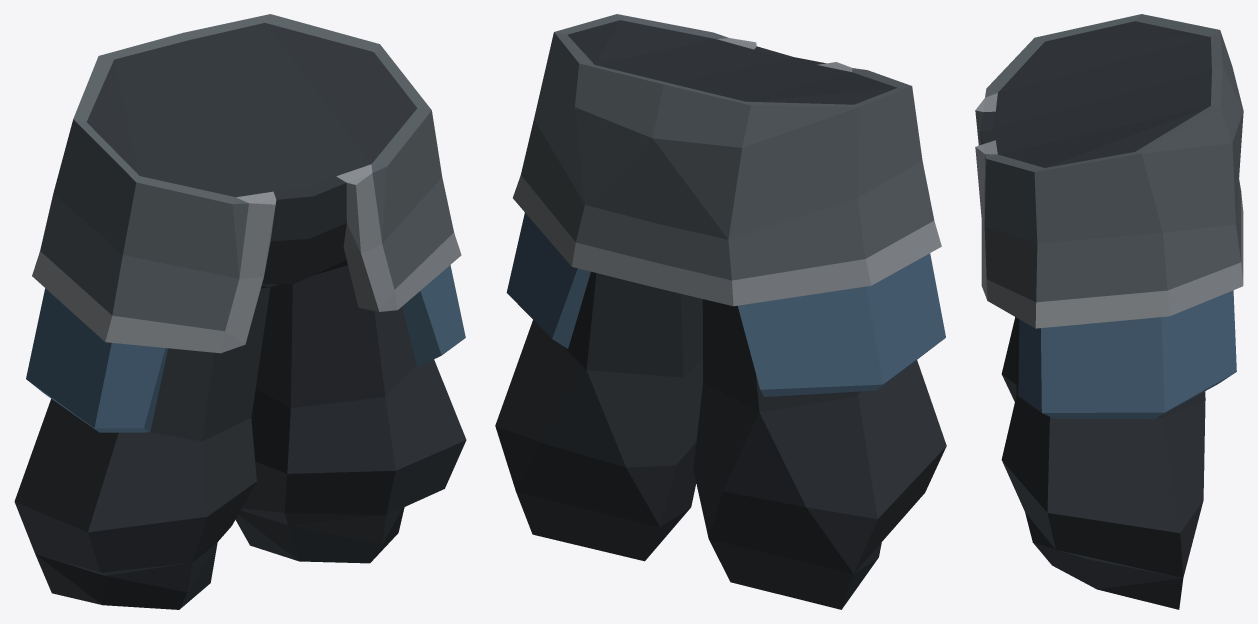
File: Chr_Hips_Male_11_Static.fbx
3 renders of one model, left to right at view 1: azimuth 30°, elevation 25°; view 2: azimuth 150°, elevation 25°; view 3: azimuth 270°, elevation 25°, orthographic. The views are drawn at different scales.
Parts seen in each view (by area): view 1: Chr_Hips_Male_11_Static; view 2: Chr_Hips_Male_11_Static; view 3: Chr_Hips_Male_11_Static.
Boxes of the visible parts, left/top/right/bottom form: Chr_Hips_Male_11_Static: left=14, top=14, right=466, bottom=609; Chr_Hips_Male_11_Static: left=495, top=14, right=946, bottom=609; Chr_Hips_Male_11_Static: left=975, top=14, right=1243, bottom=609.
Size of the model in its own units: 0.4397 by 0.5545 by 0.2861.
